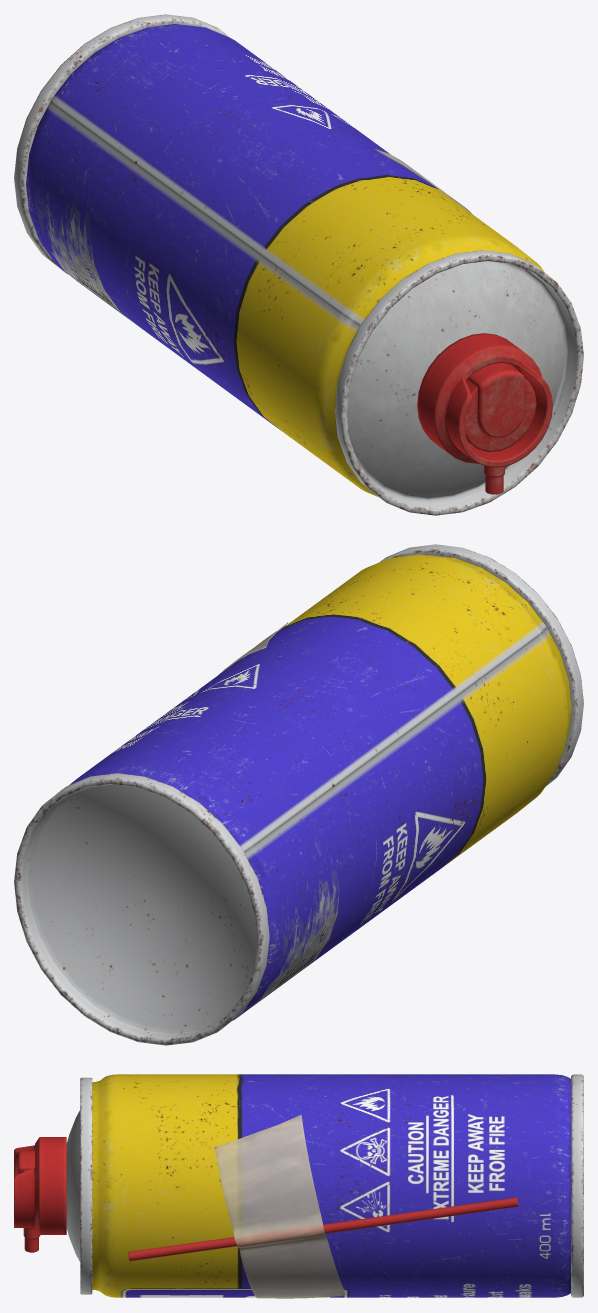
The model's file is lubricant_spray.glb.
The picture shows the model from 3 angles, top to bottom: view 1: azimuth 30°, elevation 25°; view 2: azimuth 150°, elevation 25°; view 3: azimuth 270°, elevation 25°; orthographic projection. The views are drawn at different scales.
Parts seen in each view (by area): view 1: lubricant_spray_tin; view 2: lubricant_spray_tin; view 3: lubricant_spray_tin, lubricant_spray_tape, lubricant_spray_pipe.
Boxes of the visible parts, x1,y1,x2,y2 form: lubricant_spray_tin: (14,14,583,515); lubricant_spray_tin: (14,544,583,1045); lubricant_spray_tin: (14,1074,583,1297); lubricant_spray_tape: (214,1114,345,1298); lubricant_spray_pipe: (128,1197,518,1261).
Bounding box in the file's own units: 0.067 × 0.0646 × 0.1649.
Materials: 1 (1 with a texture image).
